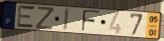4: (108, 12, 123, 36)
7: (129, 12, 145, 37)
E: (16, 4, 37, 31)
F: (80, 9, 101, 33)
I: (62, 8, 71, 32)
Z: (35, 6, 55, 31)
